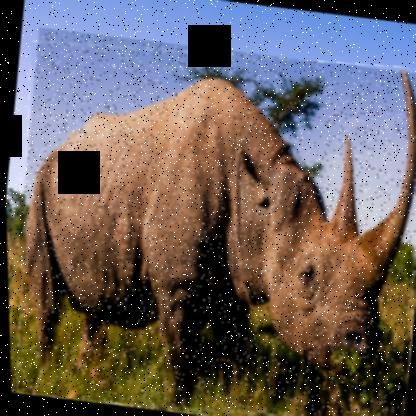Diceros bicornis: (0, 26, 416, 415)
